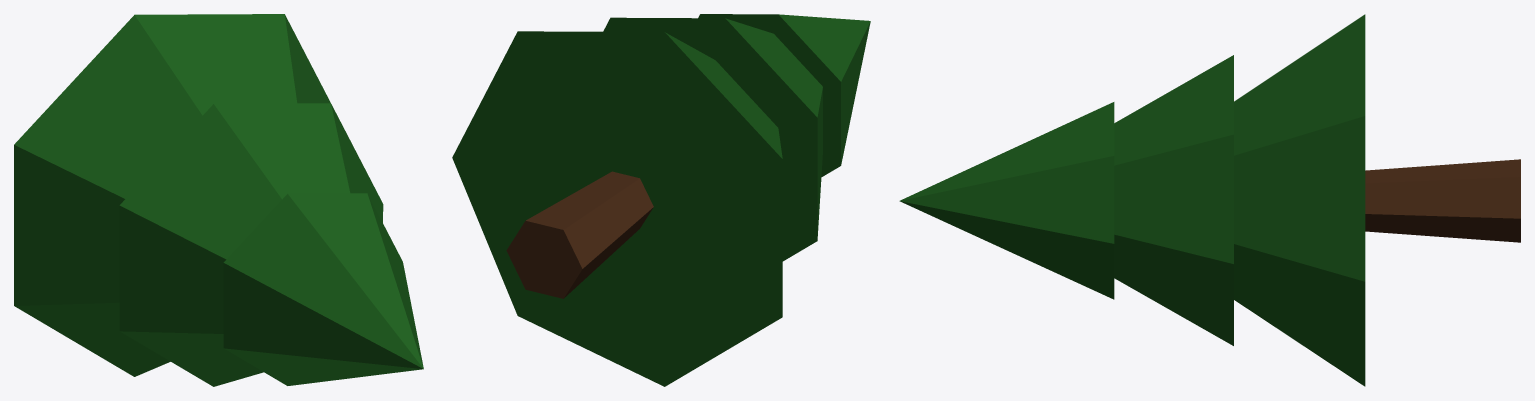
Rendered from SM_PineTree.obj.
3 renders of one model, left to right at view 1: azimuth 30°, elevation 25°; view 2: azimuth 150°, elevation 25°; view 3: azimuth 270°, elevation 25°, orthographic. The views are drawn at different scales.
Parts seen in each view (by area): view 1: SM_PineTree; view 2: SM_PineTree; view 3: SM_PineTree.
Boxes of the visible parts, bbox=[...] form: SM_PineTree: bbox=[14, 14, 423, 386]; SM_PineTree: bbox=[452, 14, 870, 386]; SM_PineTree: bbox=[899, 14, 1520, 386].
Size of the model in its own units: 304 by 312 by 520.
